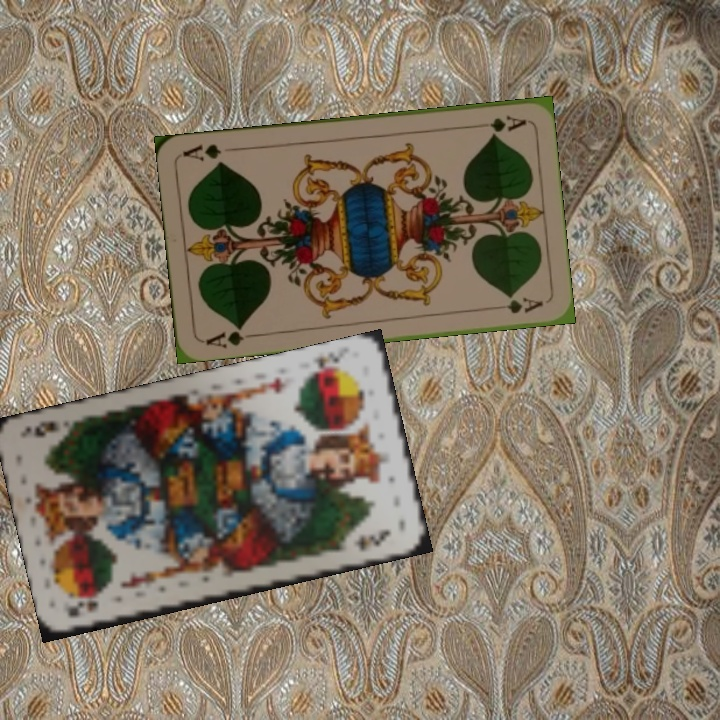GA: (202, 321, 259, 351), (469, 111, 529, 135)
SK: (310, 347, 349, 373), (63, 595, 102, 621)
